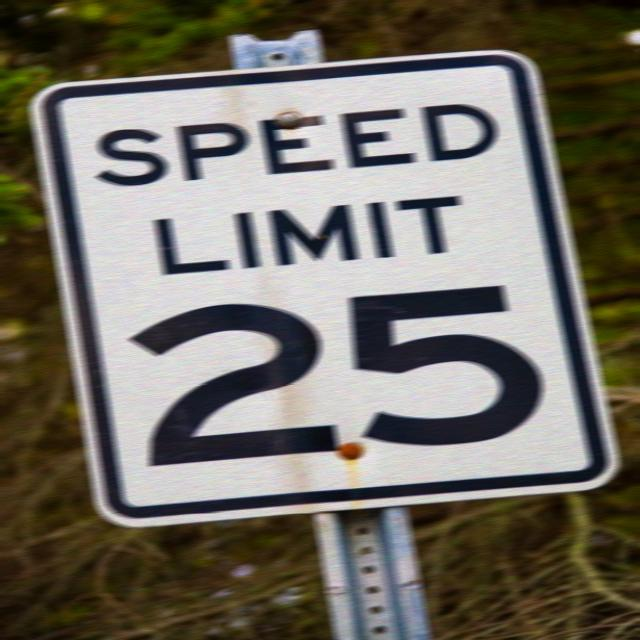speedLimit25: (28, 49, 624, 521)
